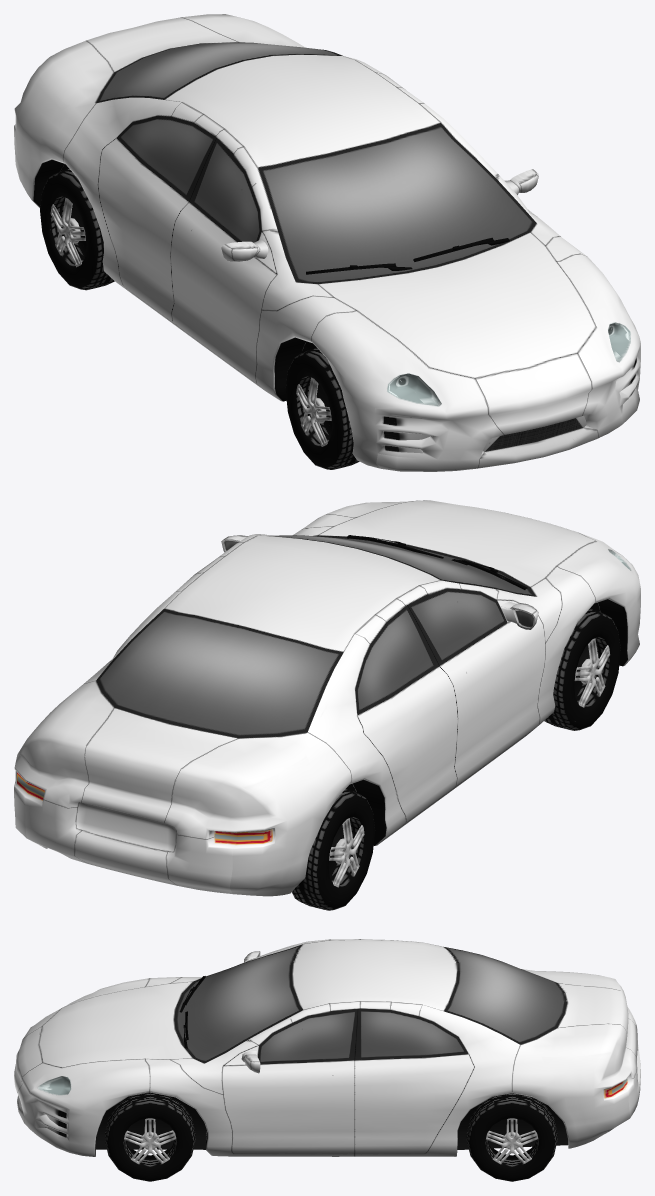
File: Car.fbx
3 views of the same model, one above another, from view 1: azimuth 30°, elevation 25°; view 2: azimuth 150°, elevation 25°; view 3: azimuth 270°, elevation 25° (orthographic). The views are drawn at different scales.
Parts seen in each view (by area): view 1: Car; view 2: Car; view 3: Car.
Boxes of the visible parts, x1,y1,x2,y2 form: Car: [14, 14, 640, 471]; Car: [14, 500, 640, 910]; Car: [14, 939, 640, 1181].
Bounding box in the file's own units: 21.17 × 14.68 × 49.66.
